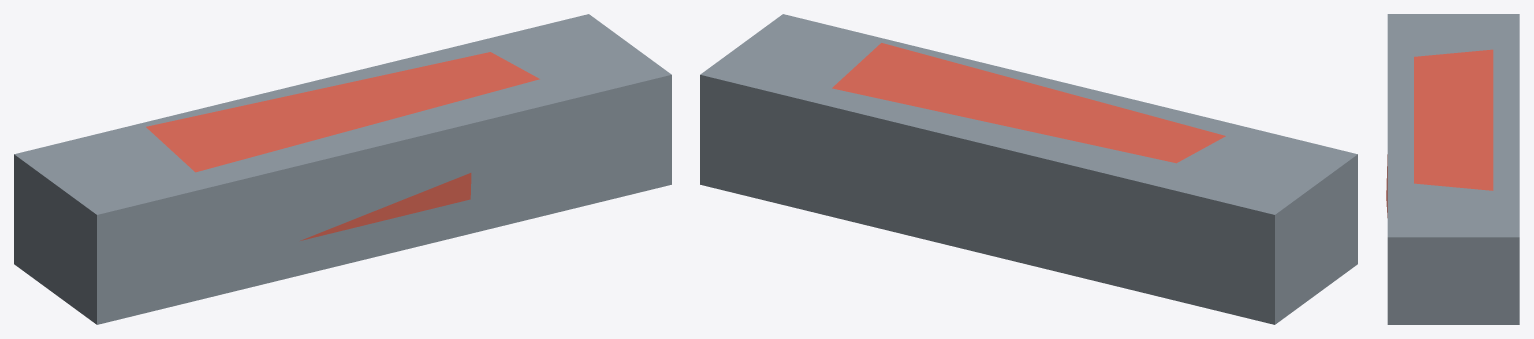
The model's file is SU_MorokSubmarine_LOD1.glb.
3 views of the same model, side by side, from view 1: azimuth 30°, elevation 25°; view 2: azimuth 150°, elevation 25°; view 3: azimuth 270°, elevation 25° (orthographic). The views are drawn at different scales.
Visible parts, largest first — view 1: EntranceGate; view 2: EntranceGate; view 3: EntranceGate.
Part boxes in pixels (x1,y1,x2,y2): EntranceGate: [14, 14, 671, 324]; EntranceGate: [700, 14, 1357, 324]; EntranceGate: [1386, 14, 1519, 324].
Bounding box in the file's own units: 1400 × 283 × 353.
